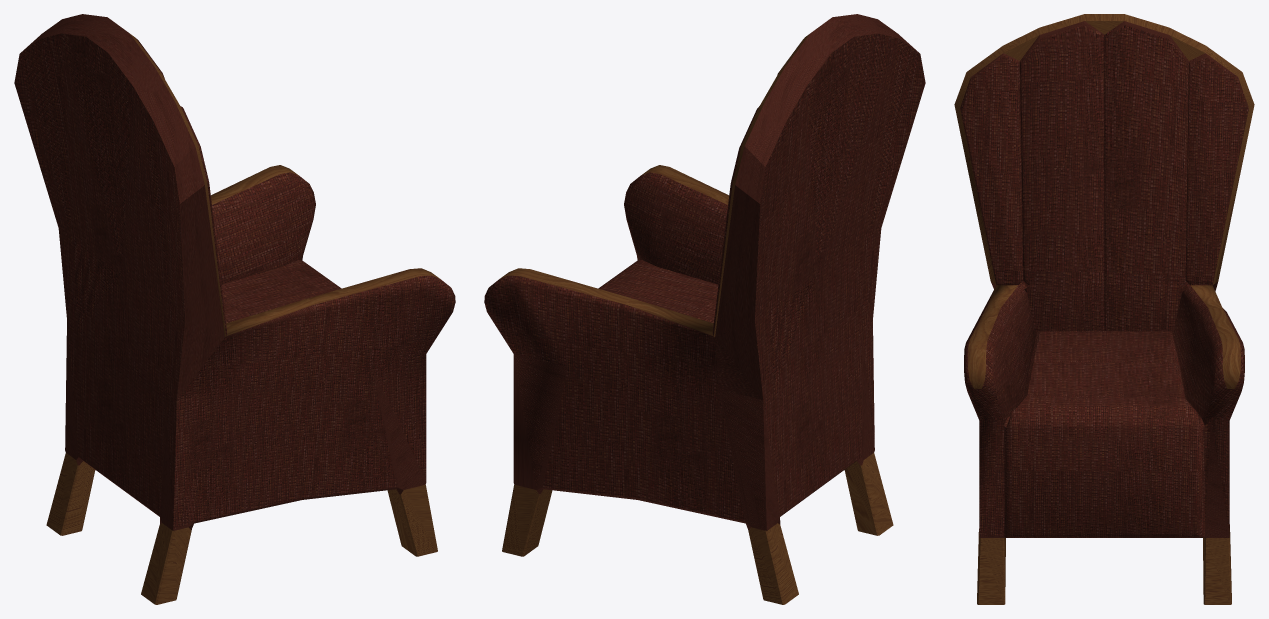
Rendered from Library_Chair.fbx.
The picture shows the model from 3 angles, left to right: view 1: azimuth 30°, elevation 25°; view 2: azimuth 150°, elevation 25°; view 3: azimuth 270°, elevation 25°; orthographic projection. The views are drawn at different scales.
Parts seen in each view (by area): view 1: LibraryChairUVd:pCube2; view 2: LibraryChairUVd:pCube2; view 3: LibraryChairUVd:pCube2.
Boxes of the visible parts, x1,y1,x2,y2 form: LibraryChairUVd:pCube2: [14, 14, 455, 604]; LibraryChairUVd:pCube2: [484, 14, 925, 604]; LibraryChairUVd:pCube2: [954, 14, 1254, 604].
Bounding box in the file's own units: 1.04 × 1.88 × 1.06.
